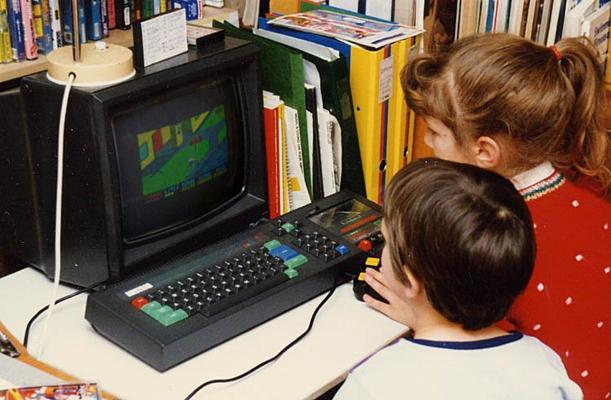person: (331, 156, 588, 400)
